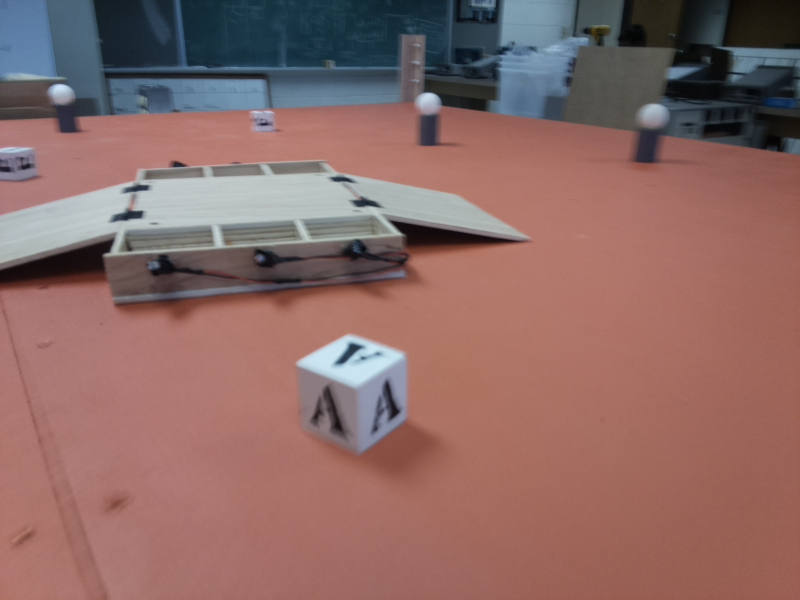blockA: (301, 336, 413, 449)
blockF: (250, 107, 278, 134)
corner: (401, 33, 423, 90)
obstacle: (632, 103, 669, 165), (415, 93, 443, 148), (51, 85, 77, 133)
side: (127, 223, 406, 299)
slope: (1, 178, 153, 255), (341, 171, 522, 233)
